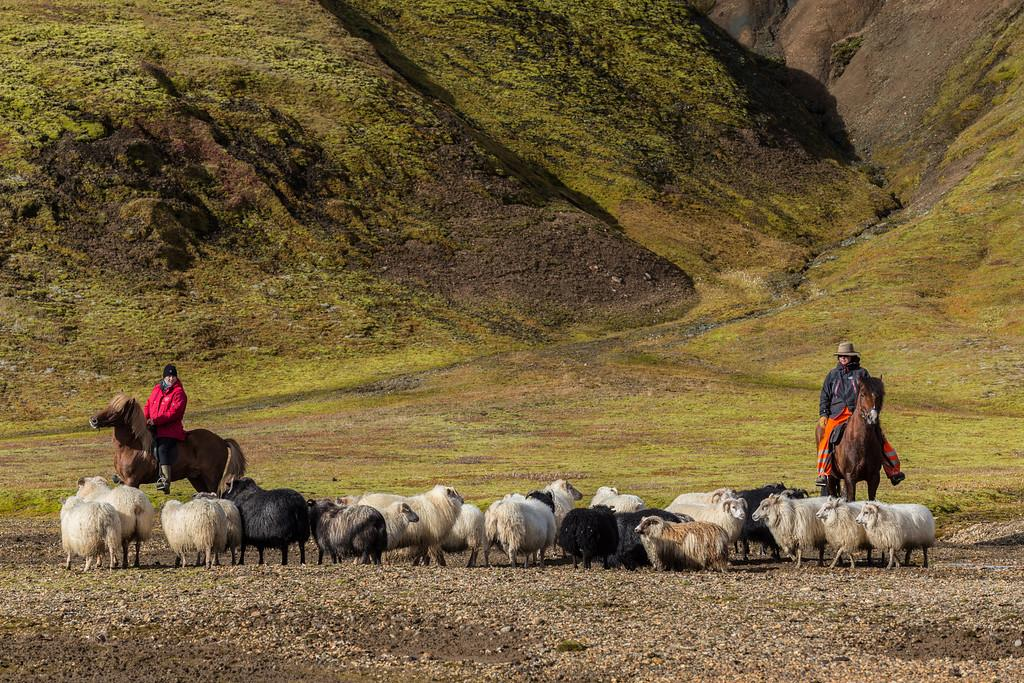sheep: (359, 481, 468, 569), (492, 478, 585, 563), (228, 476, 310, 567), (75, 475, 152, 571), (754, 492, 841, 571), (632, 511, 729, 579), (478, 487, 558, 569), (660, 493, 750, 561), (308, 497, 386, 570), (857, 502, 938, 571), (816, 496, 890, 571), (157, 494, 230, 565), (56, 492, 121, 571), (734, 484, 808, 551), (348, 501, 421, 566), (559, 503, 623, 570), (198, 489, 246, 573)
